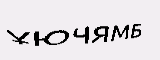М: (57, 17, 71, 39)
С: (81, 15, 100, 38)
Ф: (96, 13, 118, 41)
Ч: (69, 15, 81, 38)
Э: (42, 15, 58, 35)
